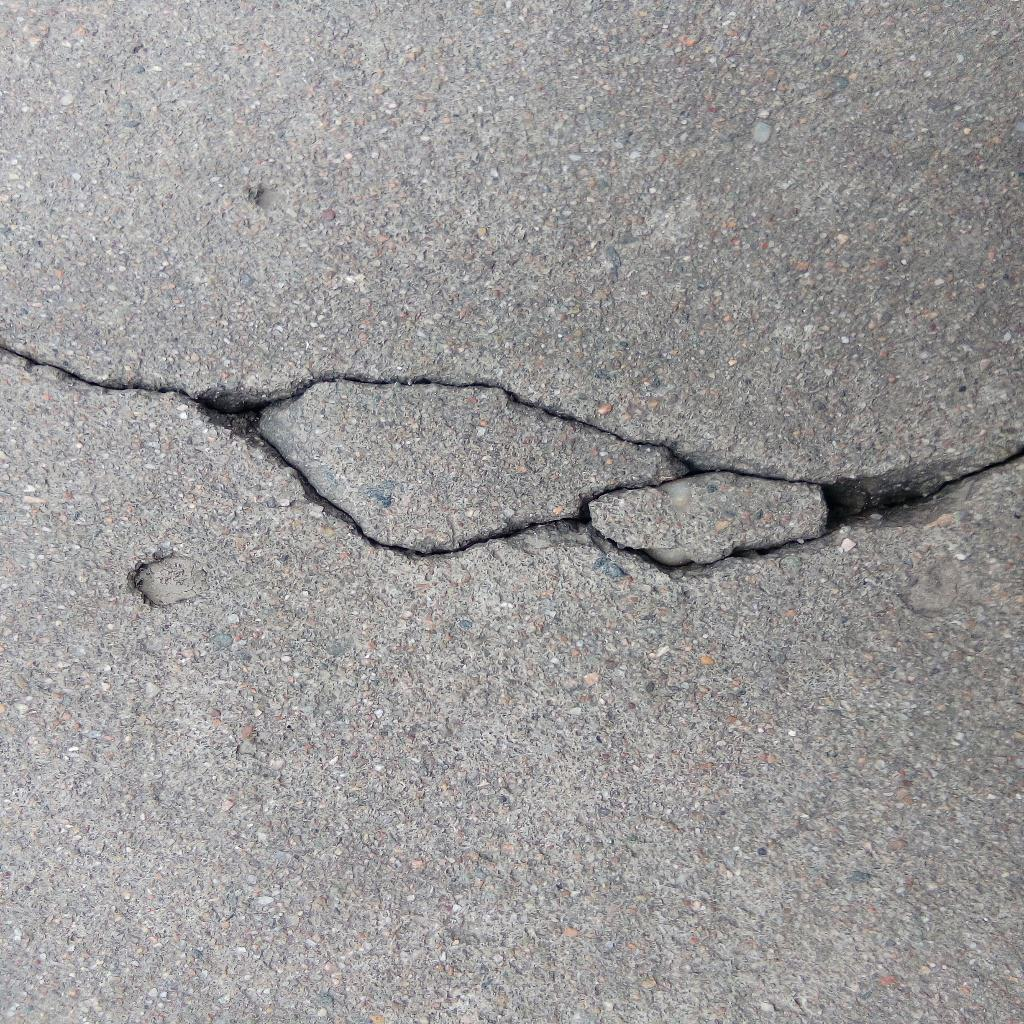Crack: (1, 339, 1024, 578)
Spalling: (126, 552, 210, 608)
